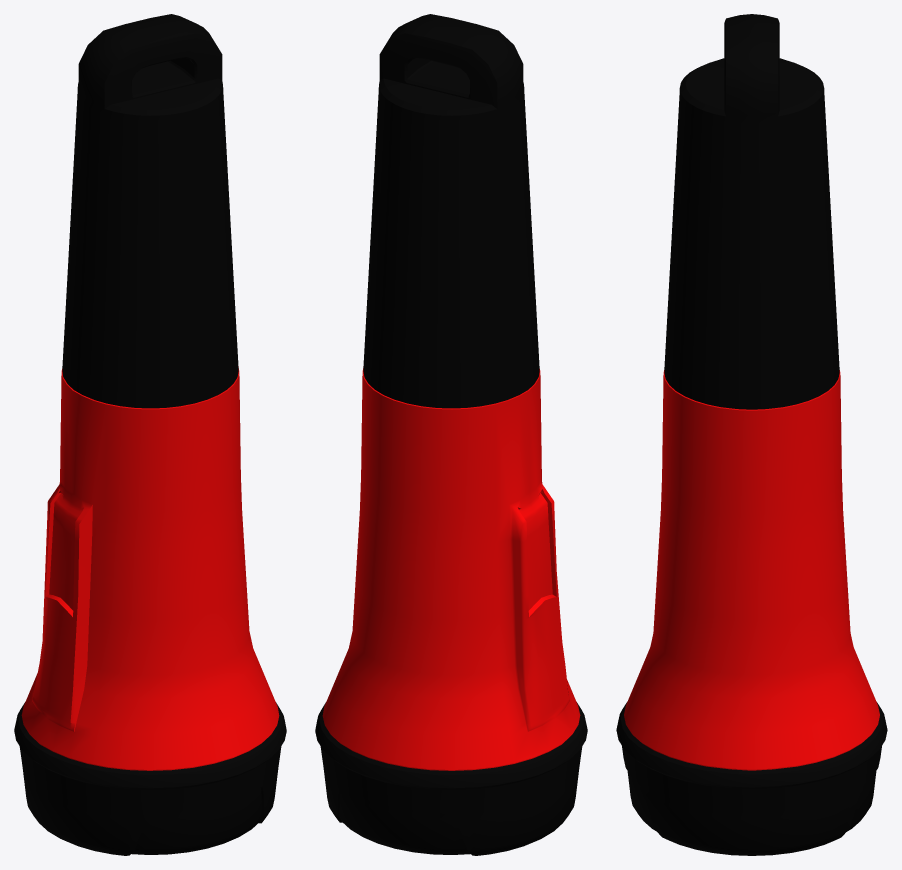
File: LAMPARA_TNG.FBX
3 renders of one model, left to right at view 1: azimuth 30°, elevation 25°; view 2: azimuth 150°, elevation 25°; view 3: azimuth 270°, elevation 25°, orthographic.
Visible parts, largest first — view 1: G_Cuerpo; view 2: G_Cuerpo; view 3: G_Cuerpo.
Boxes of the visible parts, <box> form: G_Cuerpo: <box>14,14,286,855</box>; G_Cuerpo: <box>315,14,587,855</box>; G_Cuerpo: <box>616,14,887,855</box>.
Bounding box in the file's own units: 11.87 × 37.68 × 11.9.
